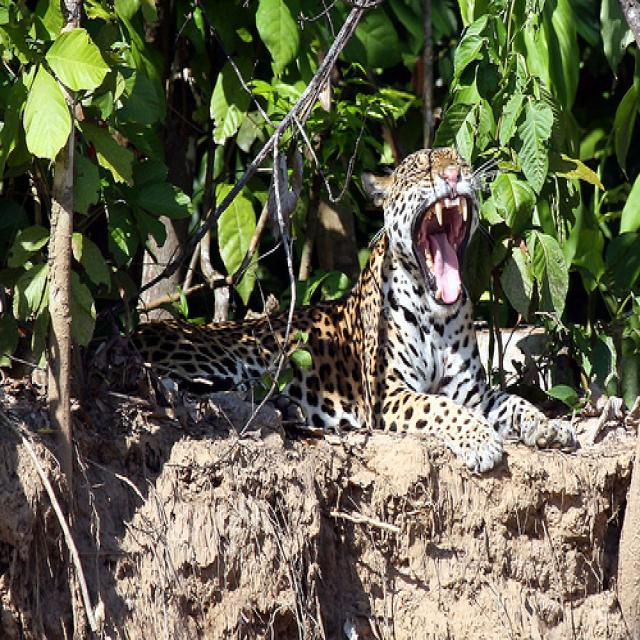Leopard: (112, 144, 578, 470)
